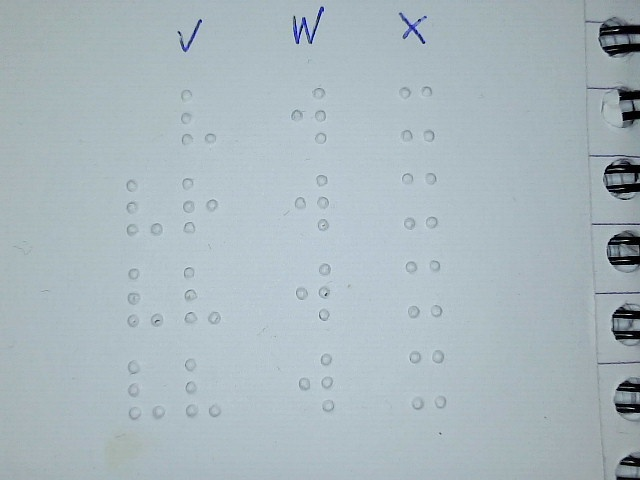V: (183, 265, 222, 325), (183, 357, 222, 417), (127, 359, 166, 419), (180, 87, 217, 146), (126, 177, 163, 236)
W: (297, 351, 335, 413), (290, 85, 327, 144), (293, 172, 330, 231), (295, 261, 332, 320)
X: (408, 347, 448, 410), (398, 84, 435, 143), (401, 170, 438, 229), (405, 258, 442, 317)
